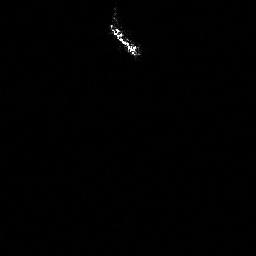ship: (109, 21, 139, 56)
